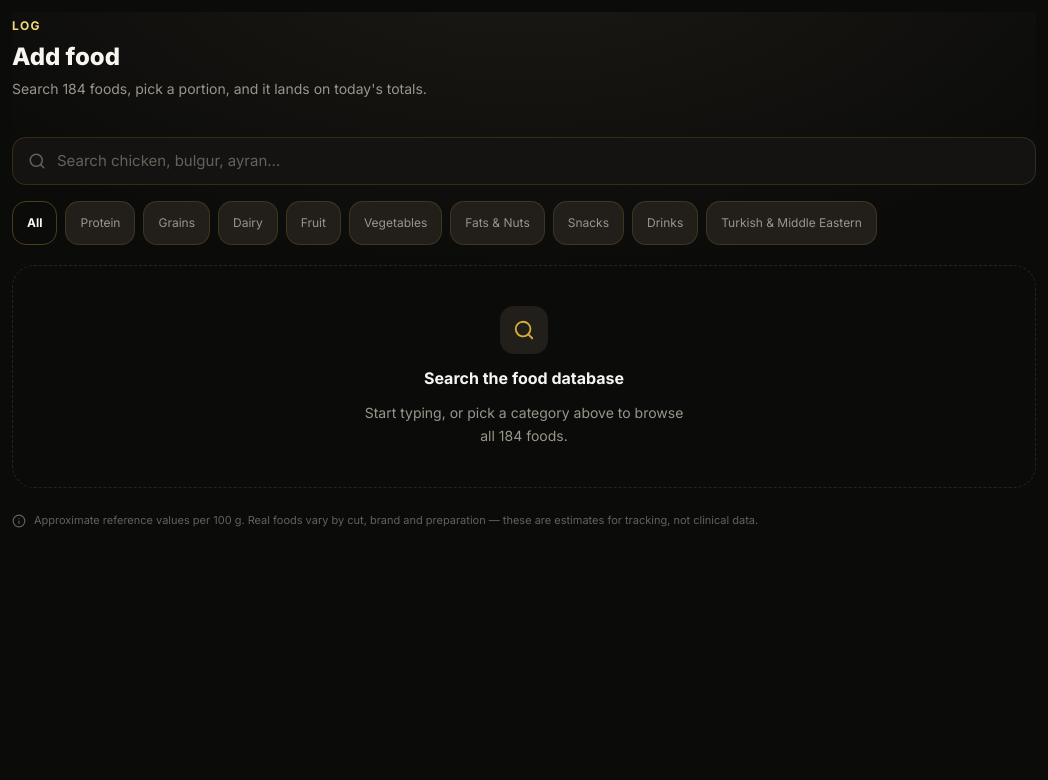
LogScreen — the headline flow: search, portion, add › recalculates when the portion changes
This screenshot has width=1048, height=780.
Step 1. Type "chicken breast" into the search field named "search foods" → (524, 161), box [12, 137, 1036, 185]
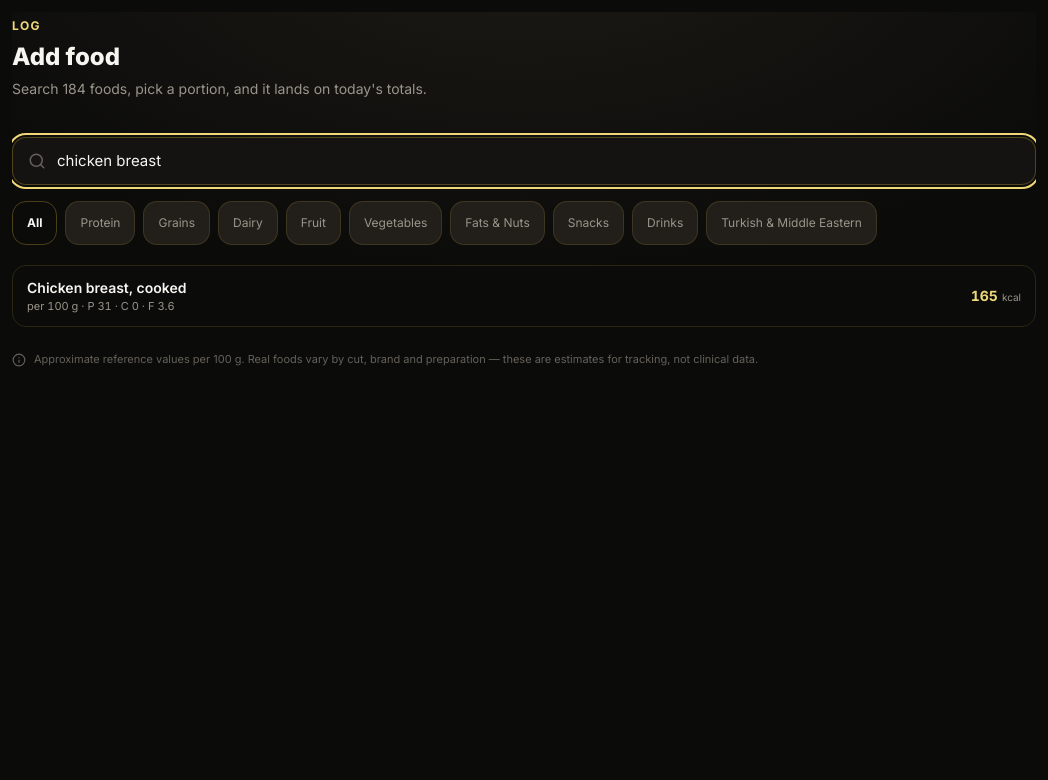
Step 2. Click the button "Chicken breast" → (107, 287), box [12, 265, 1036, 327]
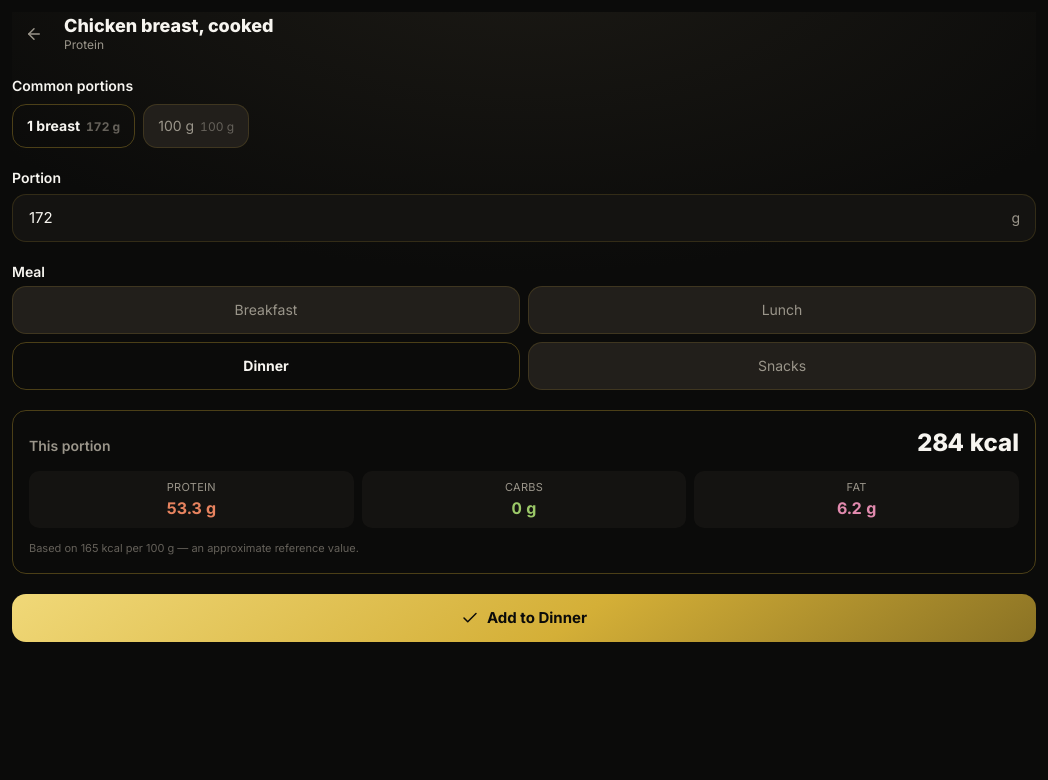
Step 3. Replace the text in the number field labelled "Portion" with "100" → (524, 218), box [12, 194, 1036, 242]
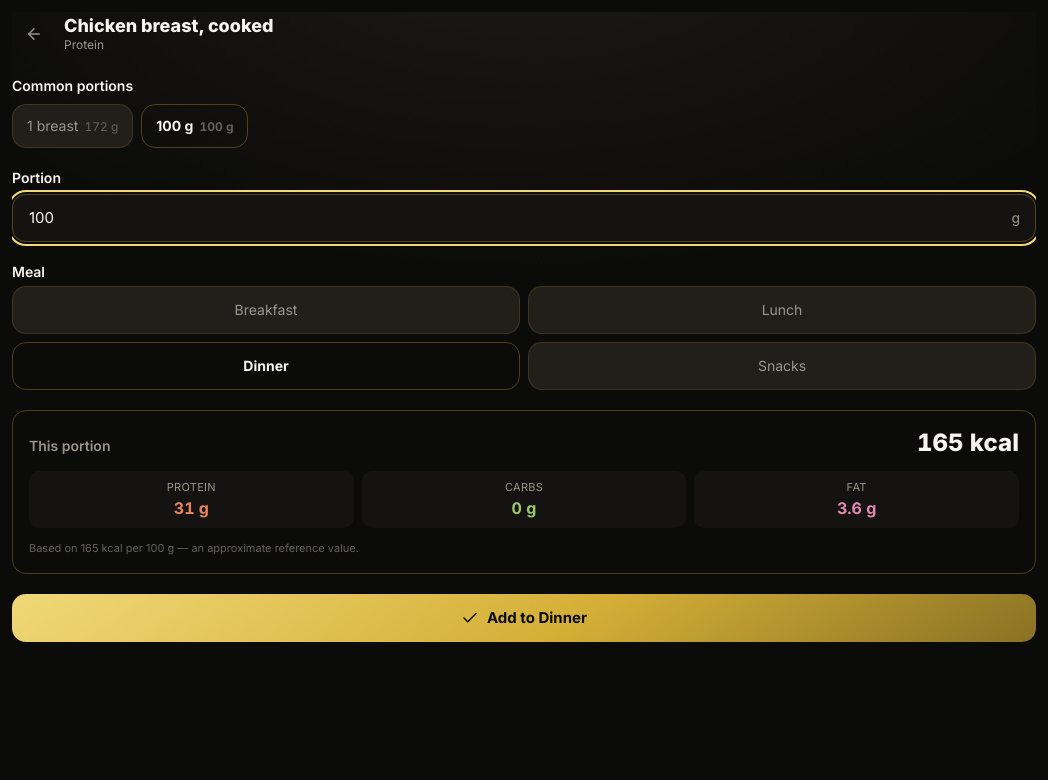
Check: the text "165 kcal" is shown, box [917, 427, 1019, 459]
